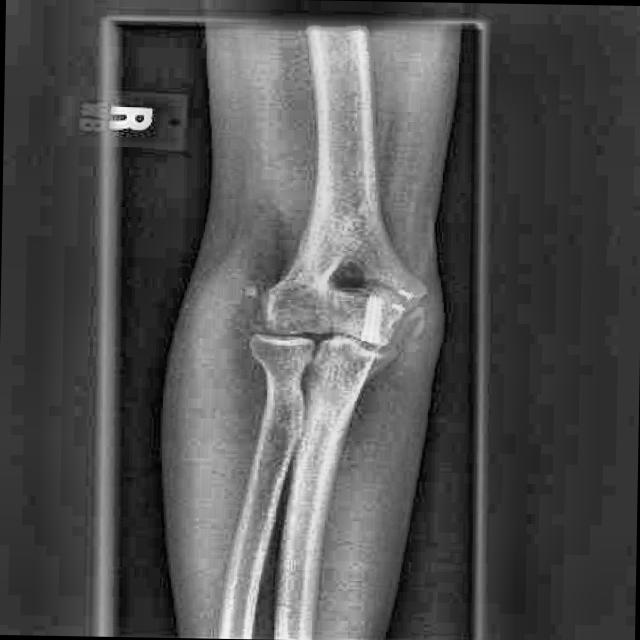elbow positive: (379, 295, 440, 354)
